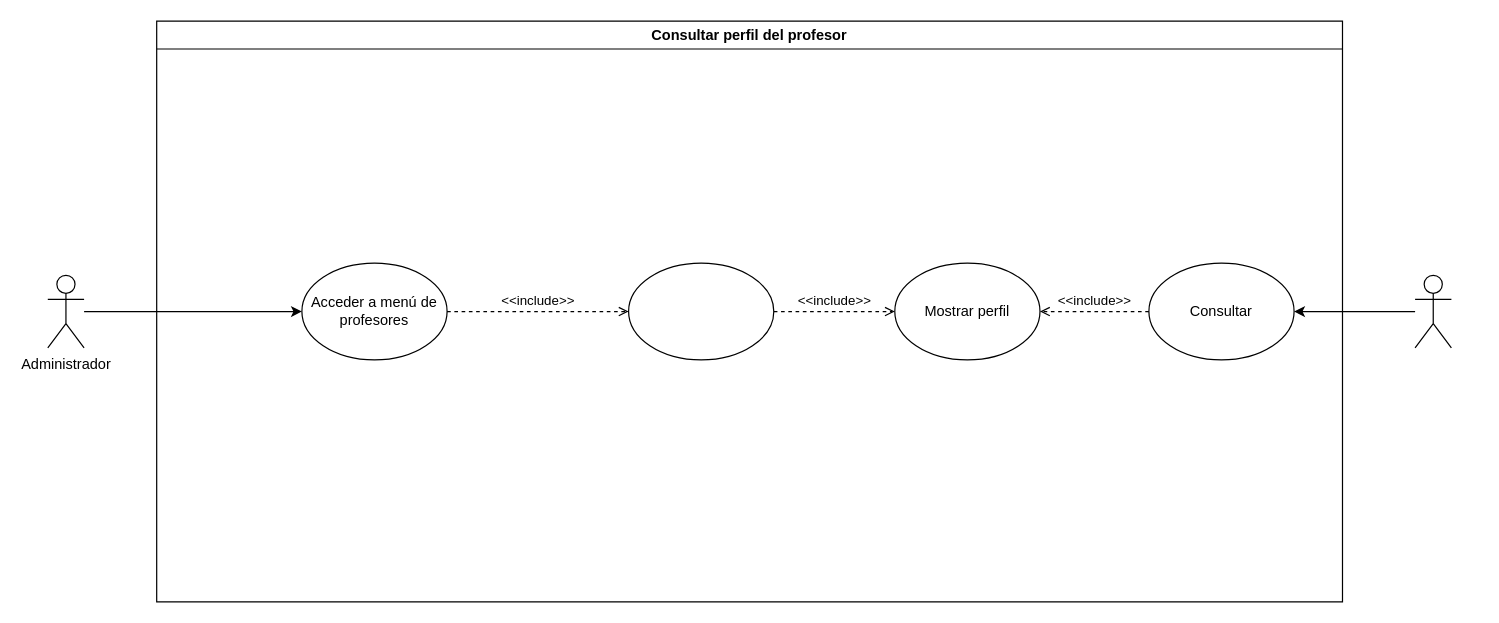
This 1499x623 diagram has some shape labels left out. The centre of each missing label's shape, as x and y in pixels:
Gestor de base de datos: pixel 1432 311
Presionar en nombre de profesor: pixel 700 311
